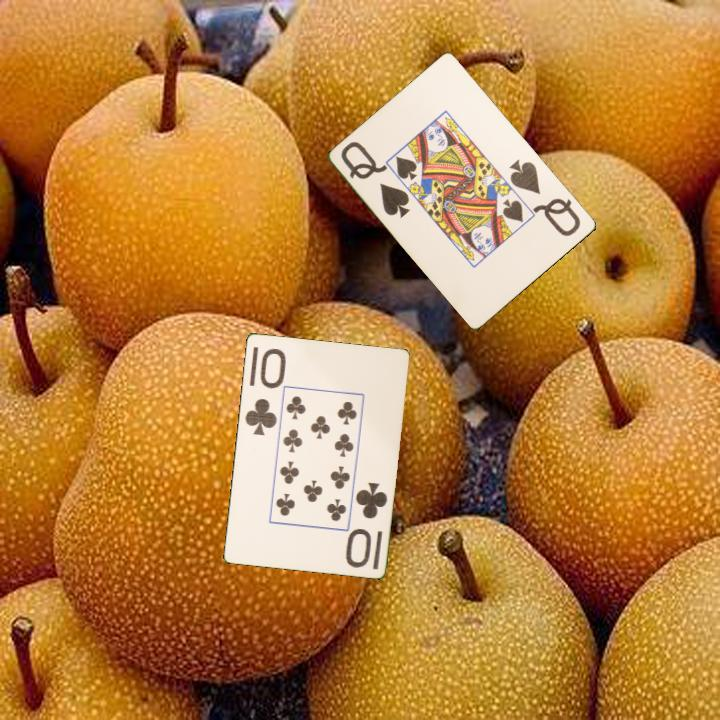10c: (241, 344, 287, 438), (345, 478, 390, 571)
Qs: (506, 156, 584, 240), (338, 138, 414, 221)
